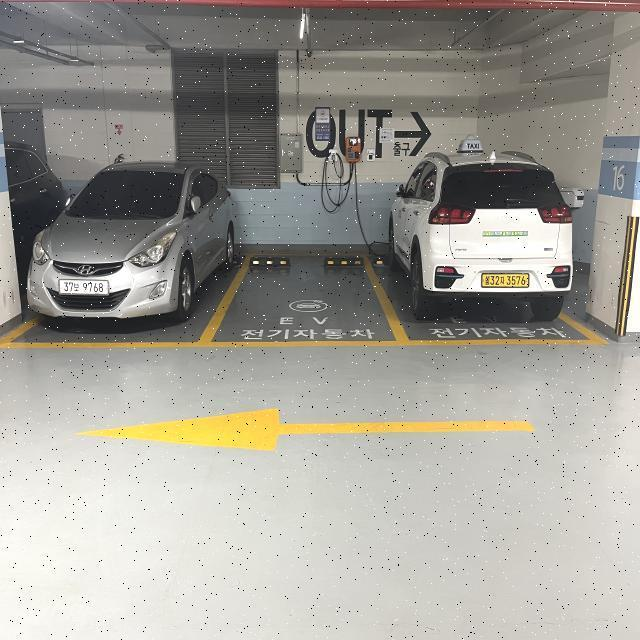Car: (375, 124, 591, 339), (18, 146, 217, 352)
Vacant: (215, 247, 386, 344)
